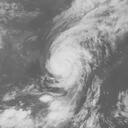cyclone: (44, 26, 91, 83)
